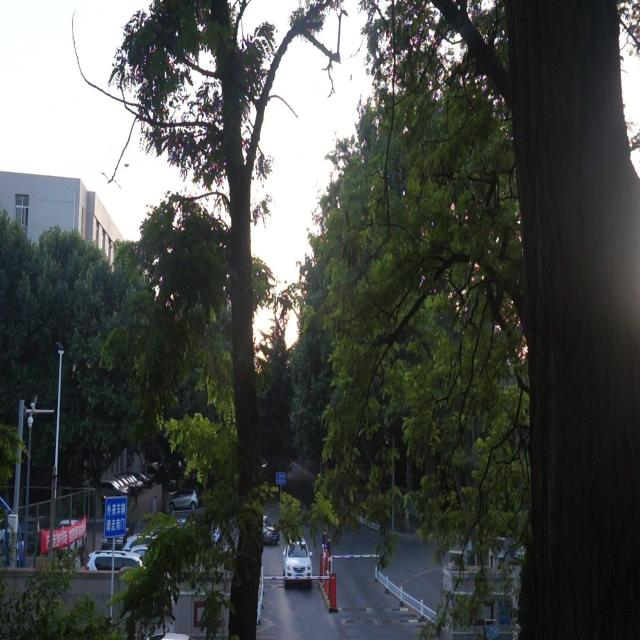drone: (122, 157, 130, 169)
